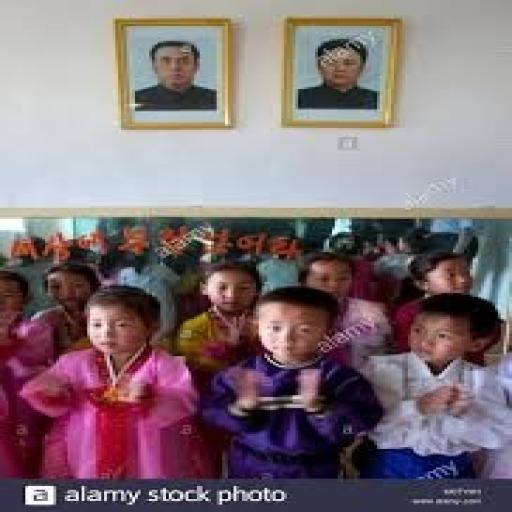clapping: (0, 226, 509, 480)
